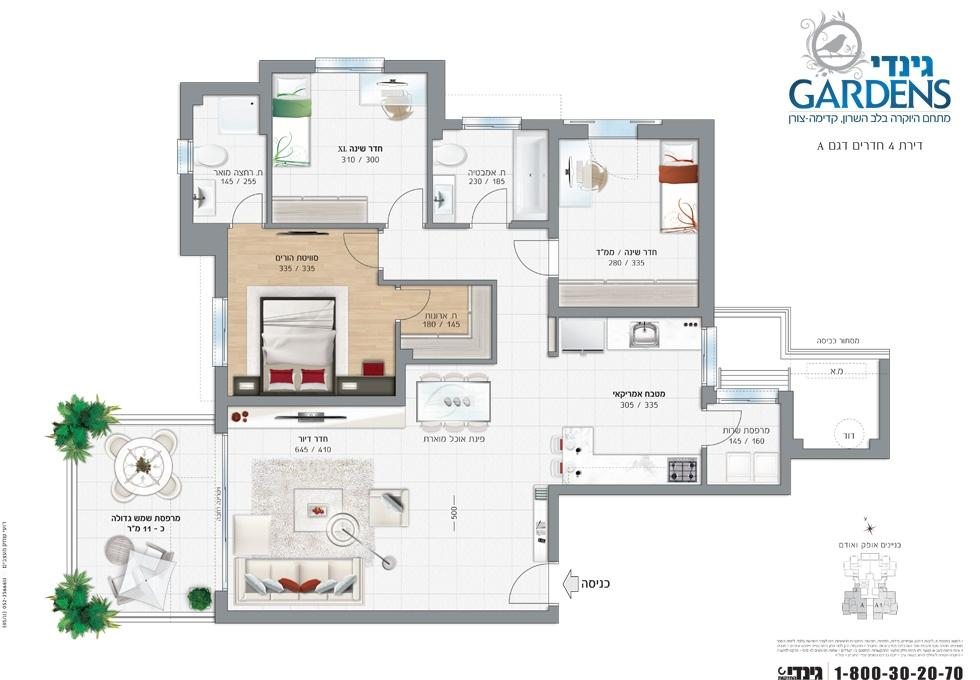window: (214, 434, 229, 591), (717, 385, 777, 407), (315, 57, 384, 75), (461, 116, 530, 134), (213, 297, 227, 366), (177, 139, 193, 175)
